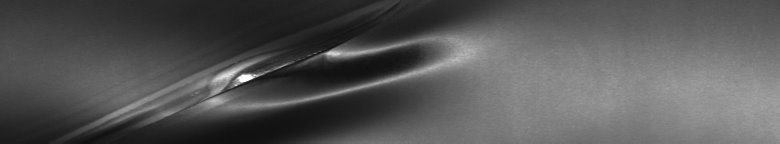ke: (64, 4, 464, 136)
